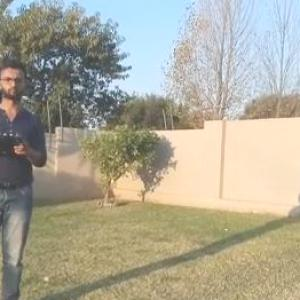follow: (0, 55, 52, 299)
